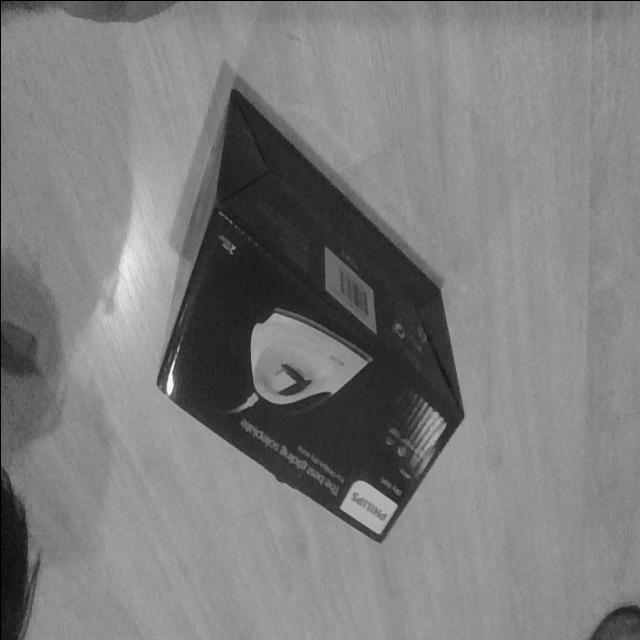IRON: (154, 76, 466, 546)
